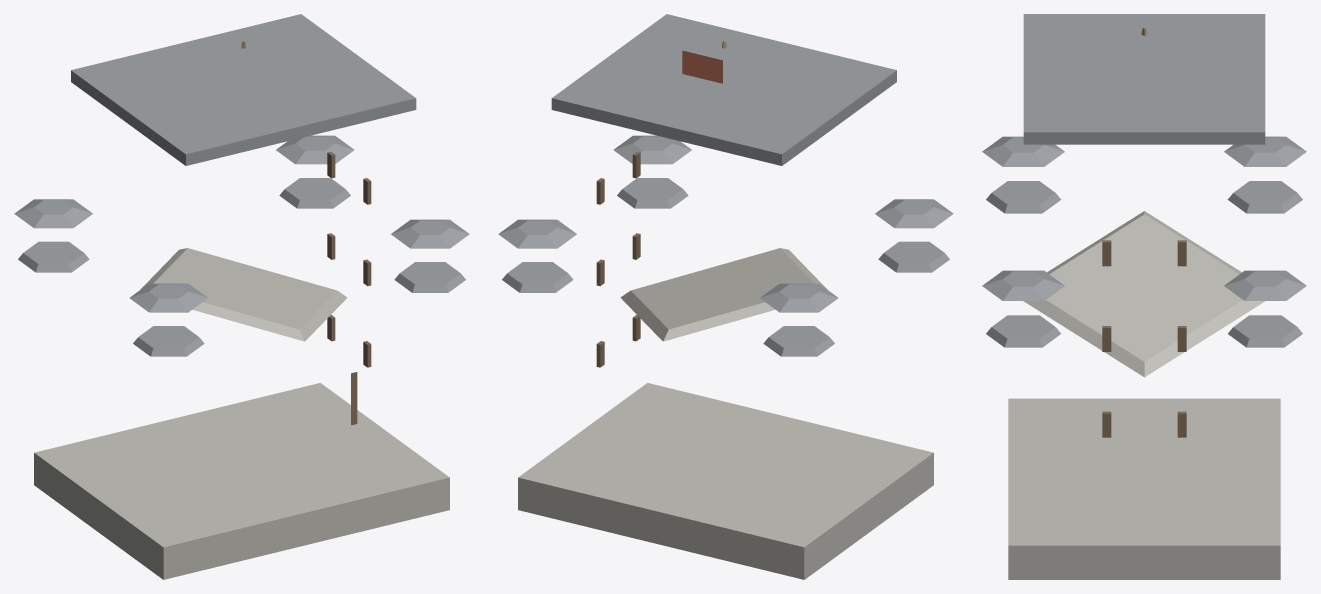
The model's file is keep.glb.
The picture shows the model from 3 angles, left to right: view 1: azimuth 30°, elevation 25°; view 2: azimuth 150°, elevation 25°; view 3: azimuth 270°, elevation 25°; orthographic projection. The views are drawn at different scales.
Visible parts, largest first — view 1: lod0; view 2: lod0; view 3: lod0.
Part boxes in pixels (x1,y1,x2,y2): lod0: (14, 14, 469, 579); lod0: (498, 14, 953, 579); lod0: (982, 14, 1306, 579).
Size of what is drawn, in the model's own units: 10.31 by 14 by 8.6.
